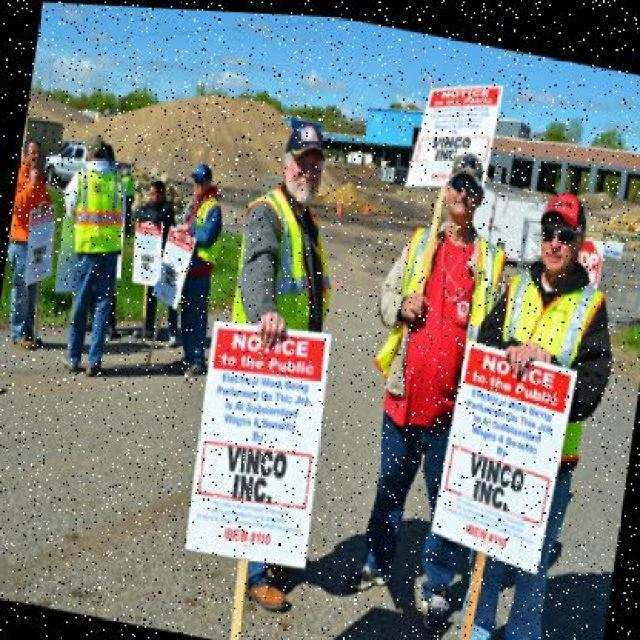vest: (65, 154, 134, 264)
